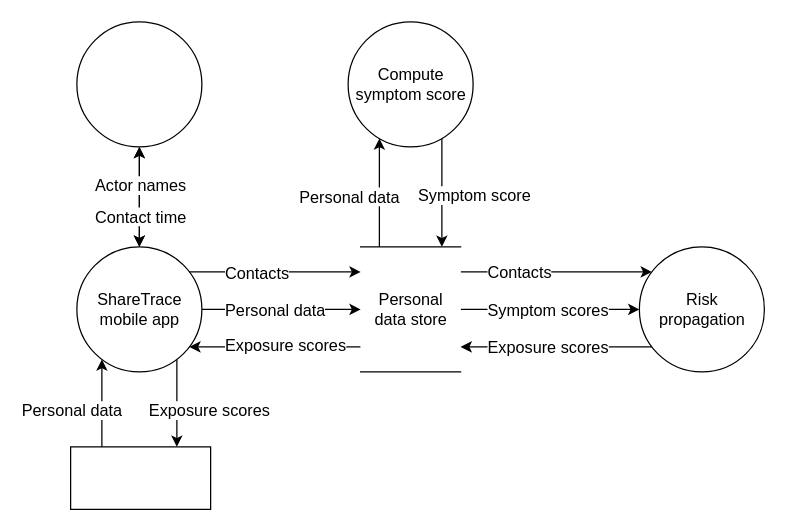
Image size: 786x531. Some labels were removed from this diagram. The shapes that lost their labels are listed below. From the top down, each one's centre as x and y in pixels, then its label:
point 139,84: Another user's ShareTrace mobile app
point 140,477: User
